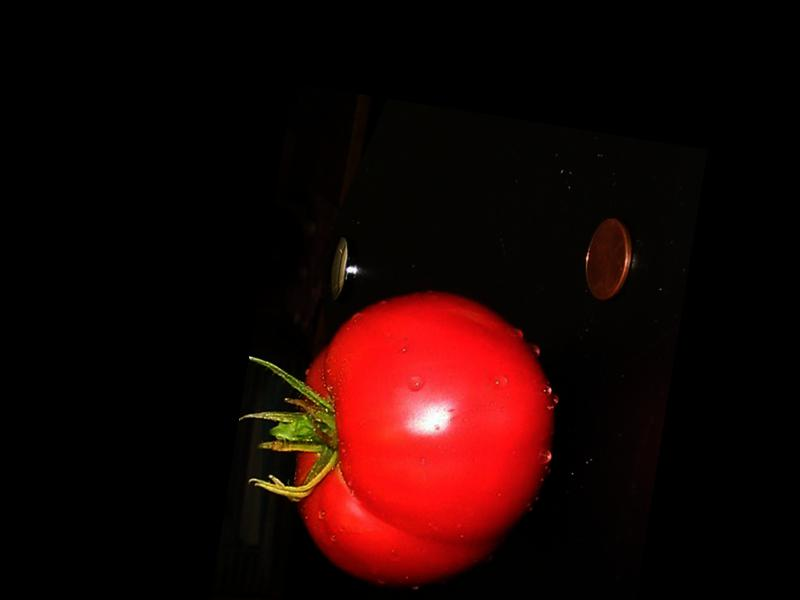Tomato: (273, 272, 575, 600)
